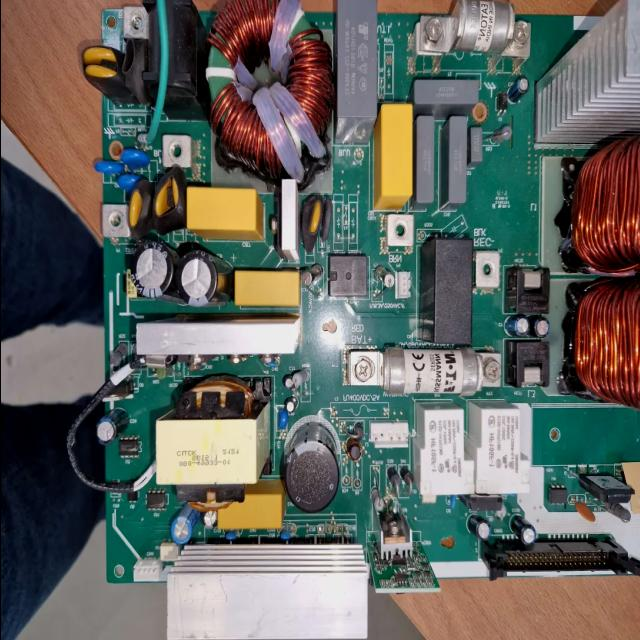A: (204, 0, 330, 192), (562, 275, 640, 416), (562, 134, 640, 273)
B: (407, 0, 528, 70), (340, 348, 500, 394)
C: (284, 421, 338, 512), (124, 237, 176, 303), (176, 248, 230, 308)
G: (168, 546, 368, 640), (536, 0, 640, 145), (136, 321, 299, 354)
